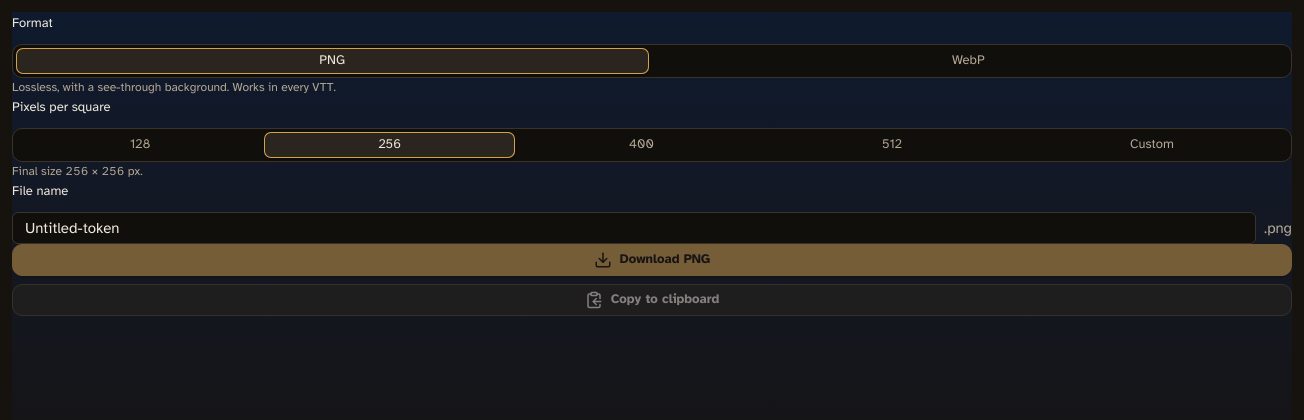
Scenario: Export section › offers PNG and WebP only (no JPG), and remembers the choice
Step 1. Click the radio button labelled "WebP" → (968, 61), box [649,48,1288,74]
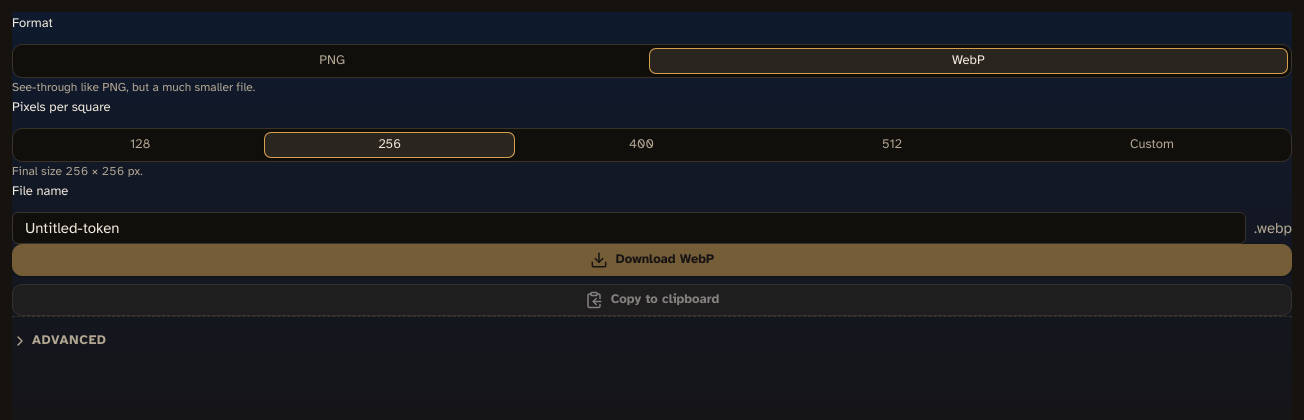
Expected: the button "Download WebP" is shown, [12,244,1292,276]
